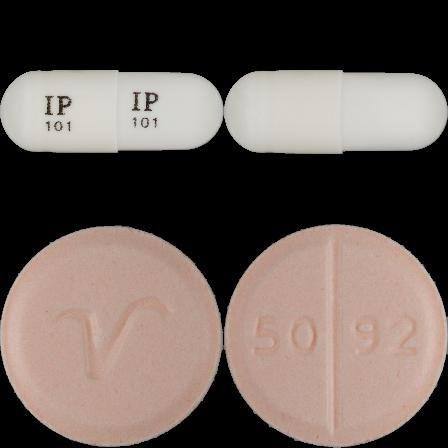63629-1572: (0, 0, 224, 224)
